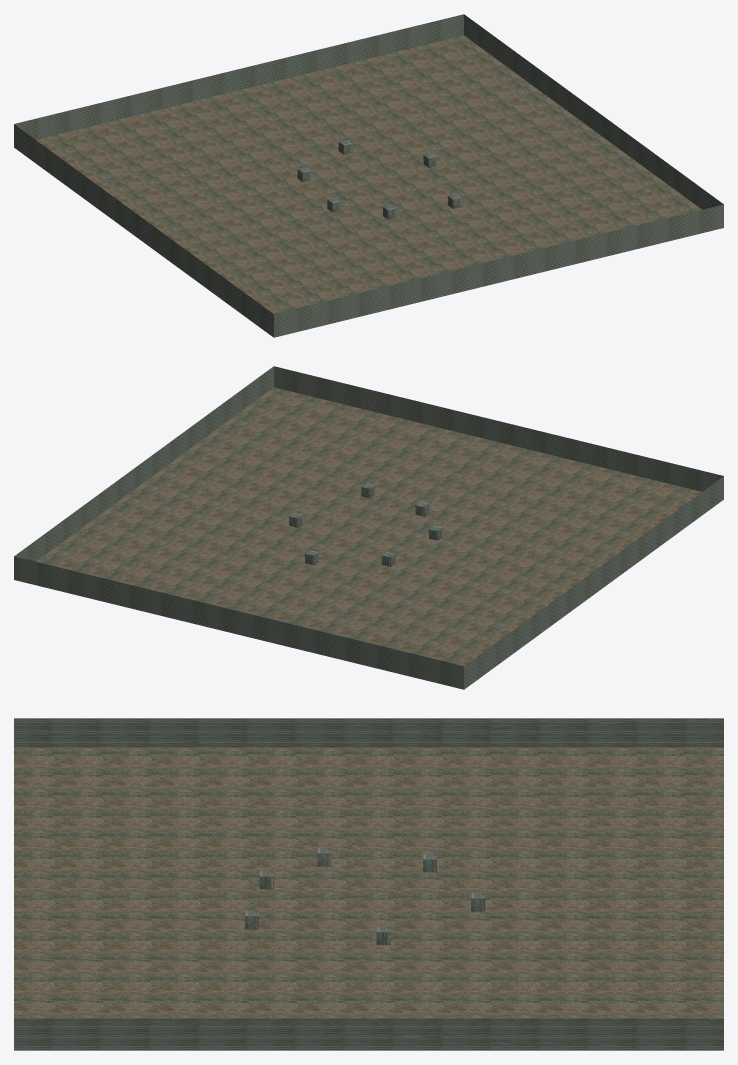
Rendered from arena.obj.
3 views of the same model, one above another, from view 1: azimuth 30°, elevation 25°; view 2: azimuth 150°, elevation 25°; view 3: azimuth 270°, elevation 25° (orthographic). The views are drawn at different scales.
Visible parts, largest first — view 1: Plane_Plane.008, Plane.003_Plane.006, Plane.002_Plane.005, Plane.001_Plane.003, Plane.000_Plane.004; view 2: Plane_Plane.008, Plane.002_Plane.005, Plane.003_Plane.006, Plane.001_Plane.003, Plane.000_Plane.004; view 3: Plane_Plane.008, Plane.000_Plane.004, Plane.001_Plane.003.
Part boxes in pixels (x1=…): Plane_Plane.008: x1=36, y1=35, x2=701, y2=313; Plane.003_Plane.006: x1=274, y1=204, x2=723, y2=337; Plane.002_Plane.005: x1=14, y1=14, x2=463, y2=139; Plane.001_Plane.003: x1=14, y1=124, x2=273, y2=337; Plane.000_Plane.004: x1=464, y1=14, x2=723, y2=209; Plane_Plane.008: x1=36, y1=387, x2=701, y2=665; Plane.002_Plane.005: x1=14, y1=556, x2=463, y2=689; Plane.003_Plane.006: x1=274, y1=366, x2=723, y2=491; Plane.001_Plane.003: x1=464, y1=476, x2=723, y2=689; Plane.000_Plane.004: x1=14, y1=366, x2=273, y2=561; Plane_Plane.008: x1=14, y1=747, x2=723, y2=1018; Plane.000_Plane.004: x1=14, y1=1018, x2=723, y2=1050; Plane.001_Plane.003: x1=14, y1=718, x2=723, y2=747.
Bounding box in the file's own units: 100 × 5 × 100.
Materials: 3 (3 with a texture image).
